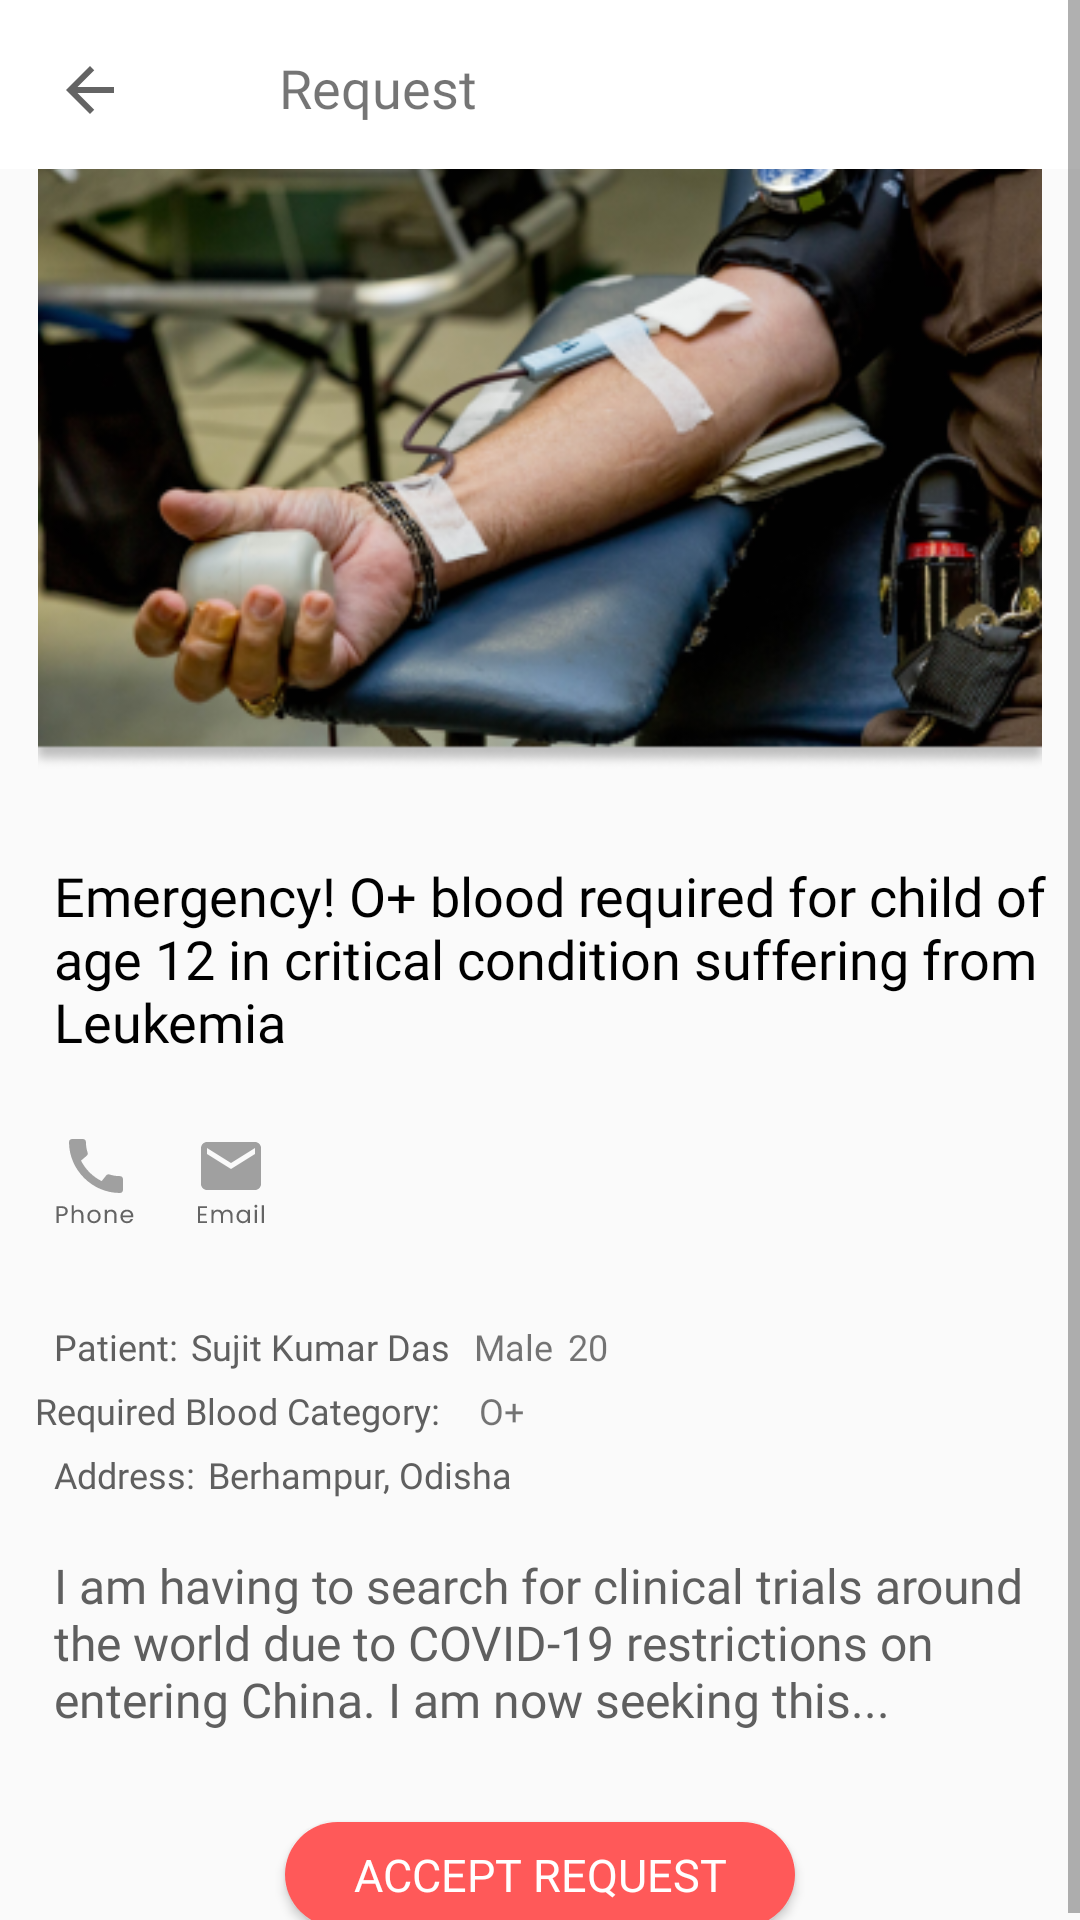

Screen size 1080px x 1920px. Icon name, then its center in pixels as [x,y]:
arrow back: [90,90]
